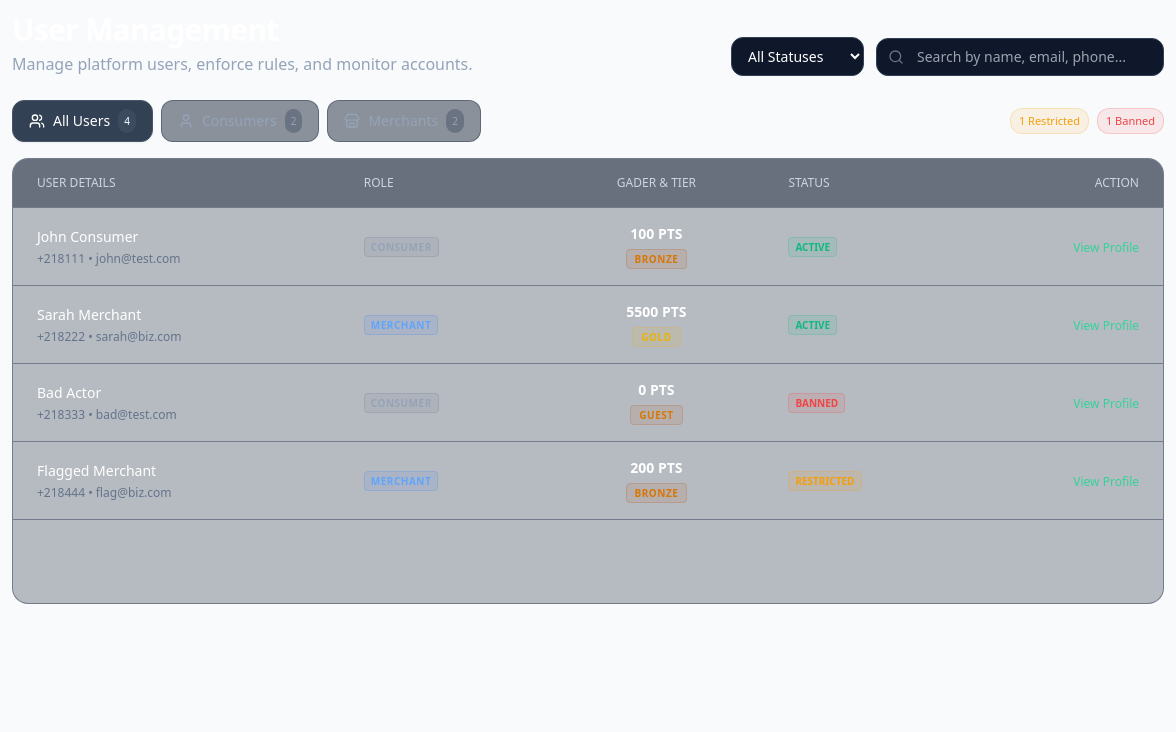
Scenario: Admin Users Page › filters by Consumers tab
What coordinates should you click on to do the following:
click the button "Consumers 2"
I would click on:
 (240, 121)
Its box is [161,100,319,142].
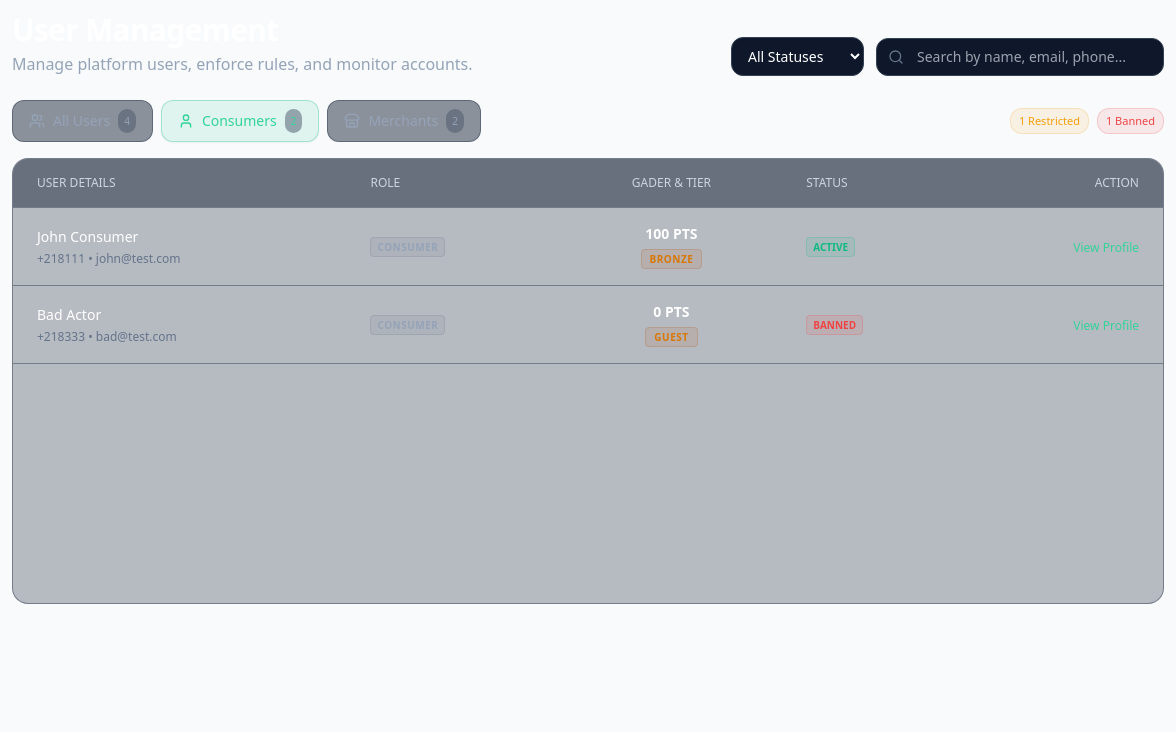
Check: the text "John Consumer" is shown, box [37,226,138,246]
Check: the text "Sarah Merchant" is gone
Check: the text "Flagged Merchant" is gone
